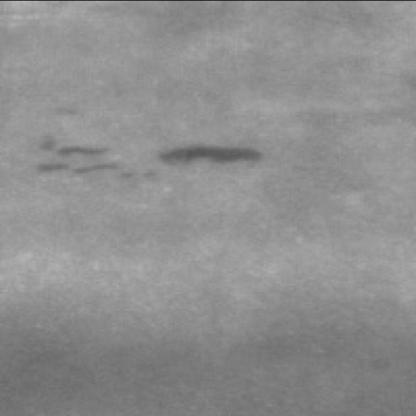inclusion: (154, 133, 276, 175), (27, 142, 137, 187)
